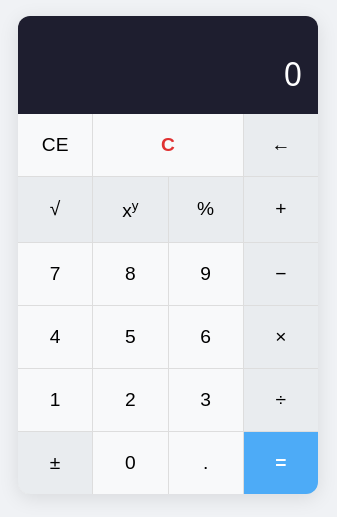
Test case: Calculator › inputs digits and shows on display
Click the button "1".
click(55, 400)  # box [18,368,92,430]
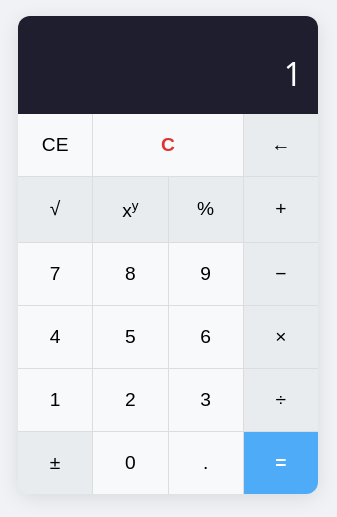
Click the button "2".
click(130, 400)  # box [93,368,168,430]
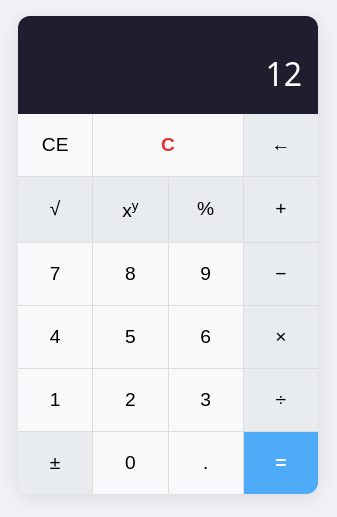
Now the text with test id "display" reads "12", box [265,52,302,95]
